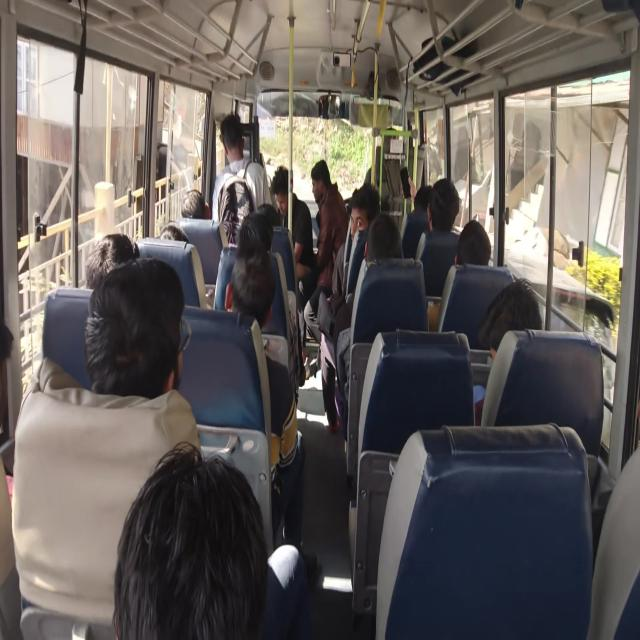person: (118, 455, 265, 640), (476, 293, 556, 382), (100, 280, 166, 386), (92, 216, 146, 281), (229, 253, 274, 318), (209, 115, 256, 177), (420, 171, 460, 232), (0, 319, 23, 425), (451, 208, 497, 254), (236, 213, 275, 266), (366, 223, 409, 270), (344, 186, 382, 224), (273, 162, 300, 212), (181, 183, 212, 219), (311, 156, 338, 192), (158, 206, 182, 240), (253, 193, 279, 217), (410, 182, 424, 210)
